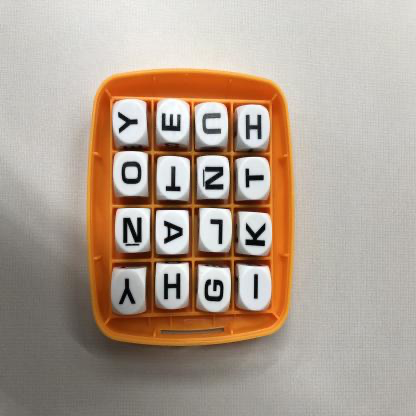a: (157, 213, 189, 254)
e: (159, 102, 191, 145)
g: (200, 267, 232, 312)
h: (156, 266, 190, 308), (239, 107, 270, 148)
i: (239, 268, 271, 310)
k: (240, 214, 272, 254)
l: (202, 209, 232, 251)
n: (117, 211, 150, 253), (197, 158, 229, 199)
o: (116, 154, 148, 196)
t: (159, 158, 191, 202), (239, 159, 269, 201)
u: (196, 105, 228, 147)
y: (112, 103, 150, 148), (113, 270, 146, 312)
